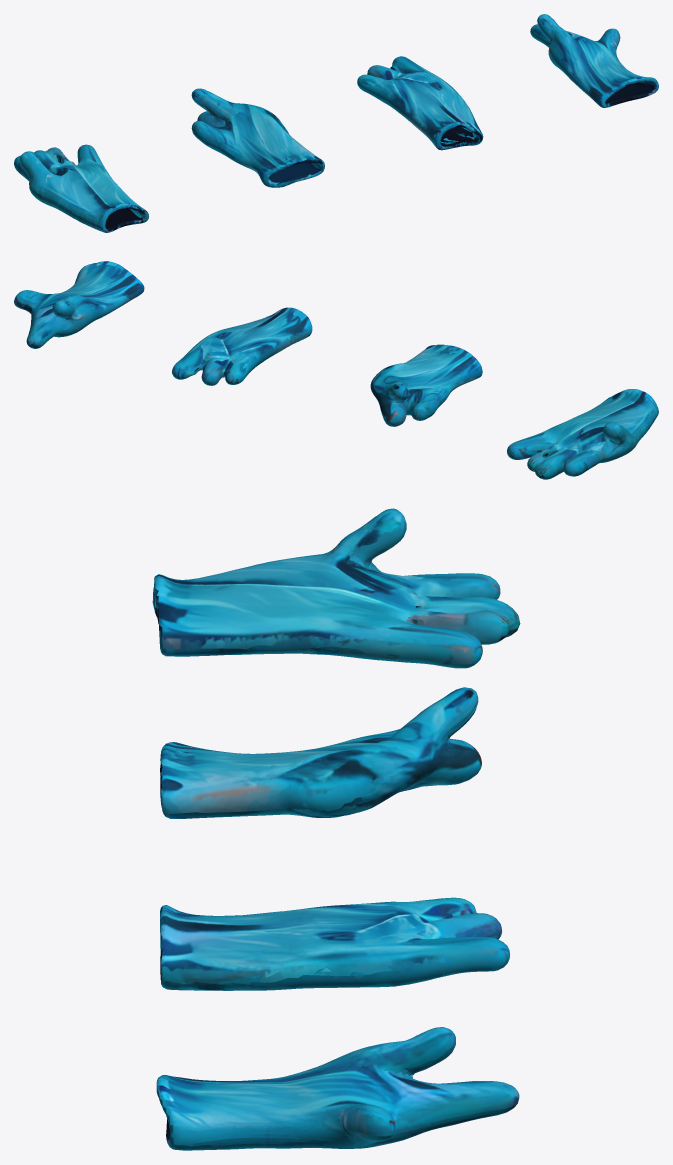
3 views of the same model, one above another, from view 1: azimuth 30°, elevation 25°; view 2: azimuth 150°, elevation 25°; view 3: azimuth 270°, elevation 25° (orthographic). The views are drawn at different scales.
Visible parts, largest first — view 1: textured_mesh; view 2: textured_mesh; view 3: textured_mesh.
Boxes of the visible parts, x1=… form: textured_mesh: x1=14, y1=14, x2=658, y2=232; textured_mesh: x1=14, y1=261, x2=658, y2=479; textured_mesh: x1=152, y1=508, x2=520, y2=1150.
Bounding box in the file's own units: 199 × 16.33 × 53.2.
1 material, 1 textured.
